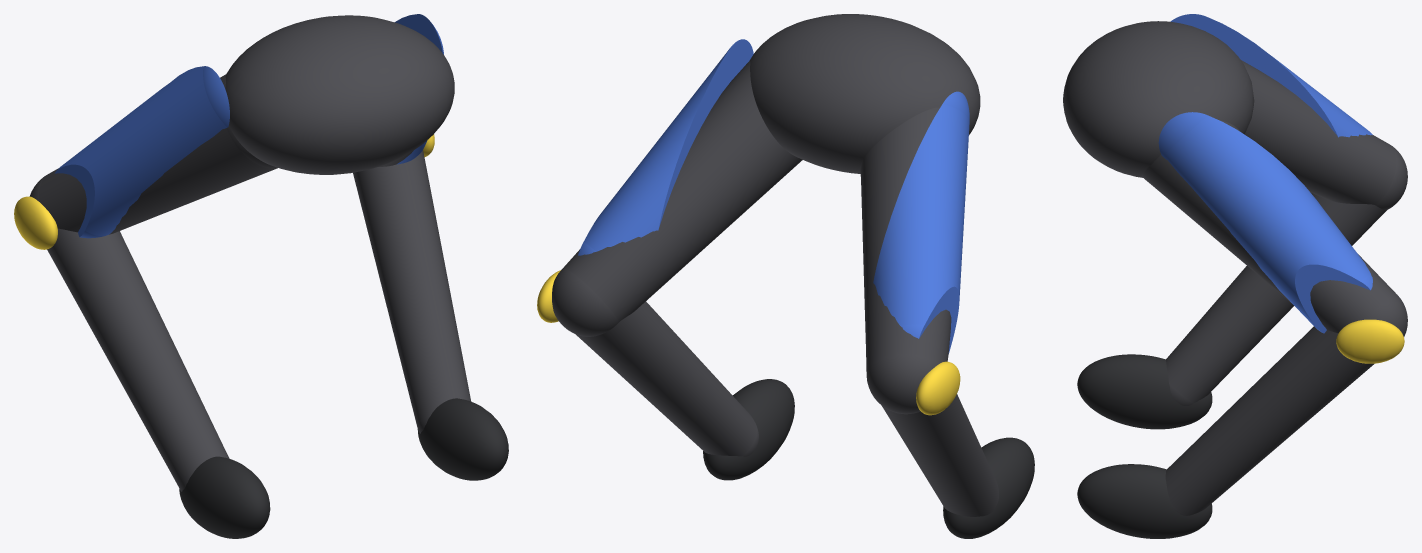
Rendered from rider_lower.glb.
3 views of the same model, side by side, from view 1: azimuth 30°, elevation 25°; view 2: azimuth 150°, elevation 25°; view 3: azimuth 270°, elevation 25° (orthographic). The views are drawn at different scales.
Parts seen in each view (by area): view 1: Suit, Livery, Carbon, Accent; view 2: Suit, Livery, Carbon, Accent; view 3: Suit, Livery, Carbon, Accent.
Part boxes in pixels (x1,y1,x2,y2): Suit: (29, 15, 471, 491); Livery: (54, 14, 443, 238); Carbon: (179, 398, 508, 538); Accent: (14, 134, 434, 249); Suit: (552, 14, 998, 516); Livery: (578, 39, 969, 353); Carbon: (703, 379, 1034, 538); Accent: (537, 270, 960, 415); Suit: (1063, 21, 1407, 515); Livery: (1158, 14, 1372, 333); Carbon: (1077, 354, 1212, 538); Accent: (1336, 319, 1404, 363).
Size of the model in its own units: 0.64 by 0.7168 by 0.5049.
